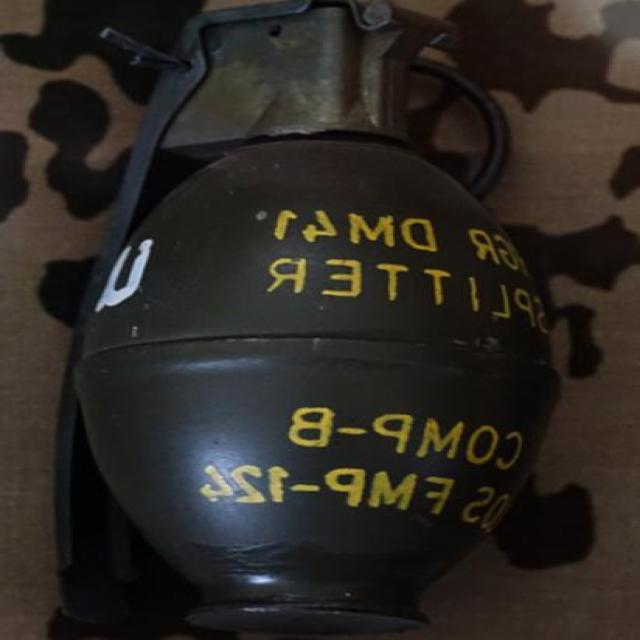grenade: (53, 1, 567, 639)
